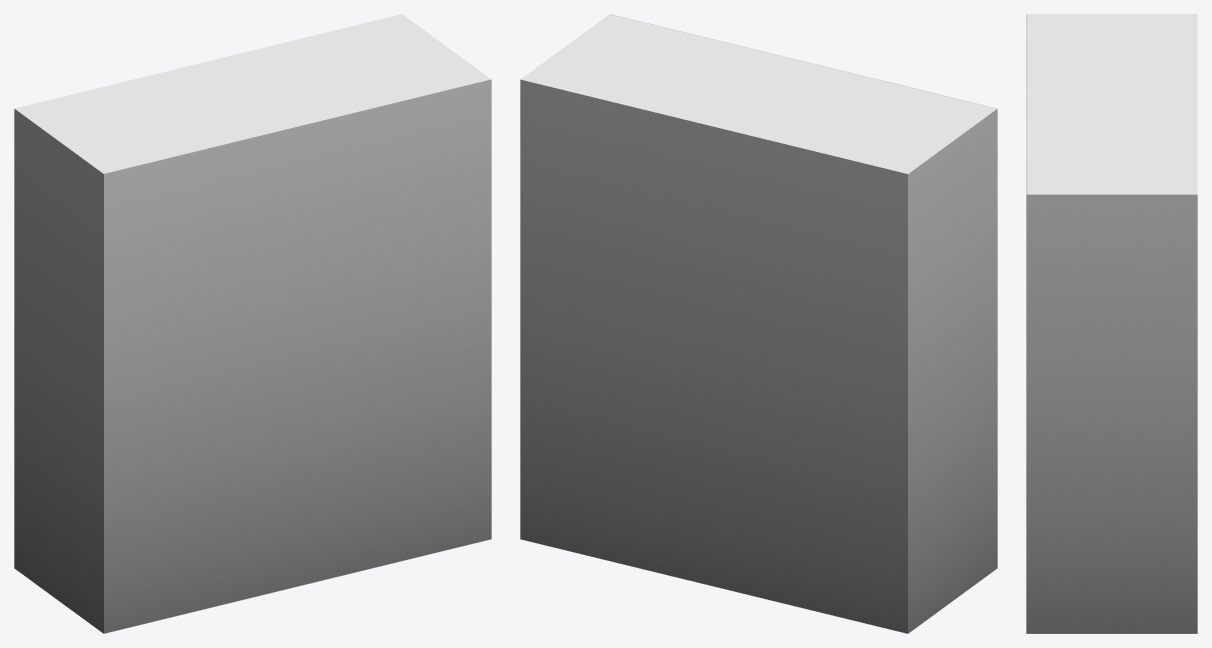
File: 2021-01-magdalenas.fbx
The picture shows the model from 3 angles, left to right: view 1: azimuth 30°, elevation 25°; view 2: azimuth 150°, elevation 25°; view 3: azimuth 270°, elevation 25°; orthographic projection. The views are drawn at different scales.
Parts seen in each view (by area): view 1: 01_obj_magdalenas_1; view 2: 01_obj_magdalenas_1; view 3: 01_obj_magdalenas_1.
Part boxes in pixels (<box>): 01_obj_magdalenas_1: <box>14,14,491,633</box>; 01_obj_magdalenas_1: <box>520,14,997,633</box>; 01_obj_magdalenas_1: <box>1026,14,1197,633</box>.
Size of what is drawn, in the model's own units: 15 by 17 by 6.
Materials: 1 (1 with a texture image).
